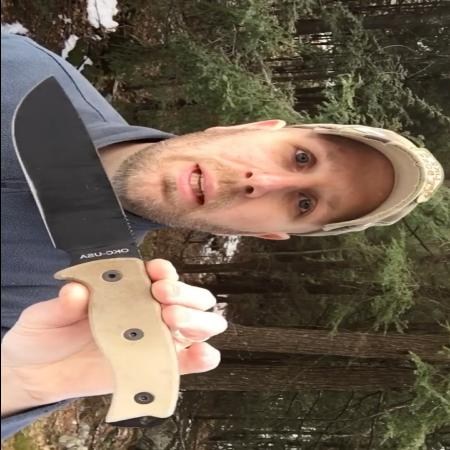long weapon: (11, 74, 225, 310)
